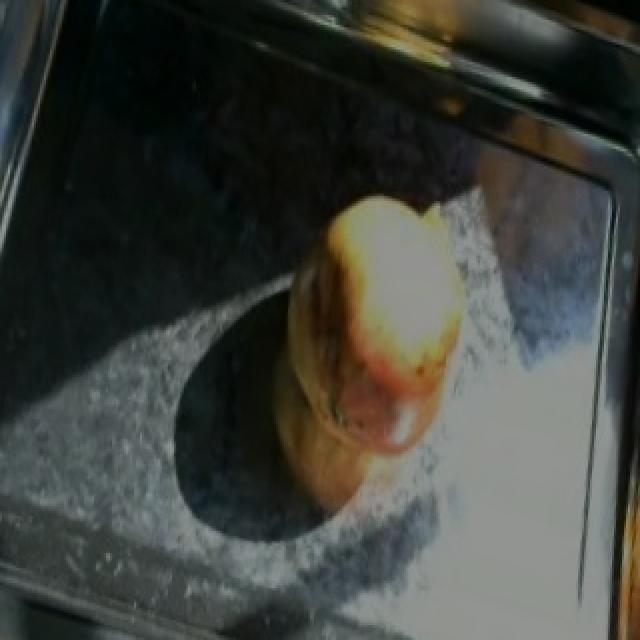fruit: (262, 196, 478, 484)
